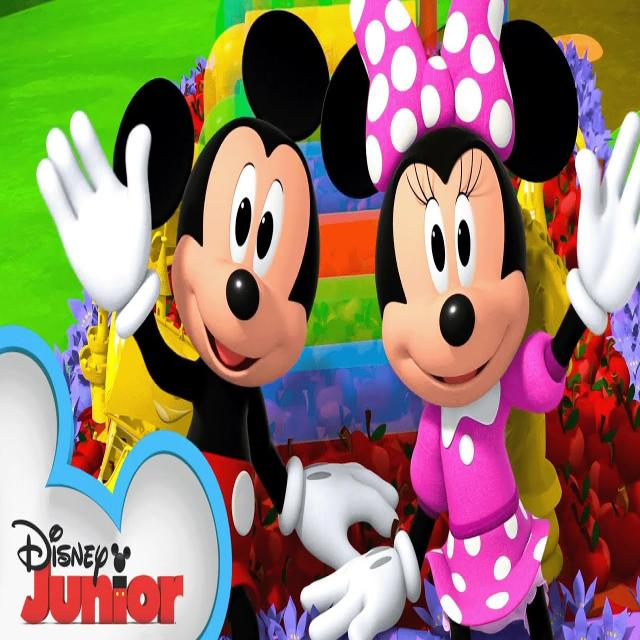mickey: (94, 7, 324, 497)
